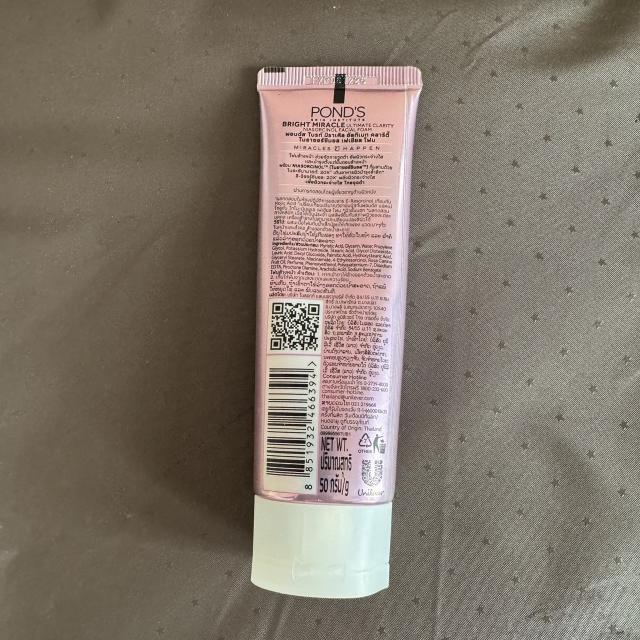Squeeze Tube: (222, 52, 420, 606)
